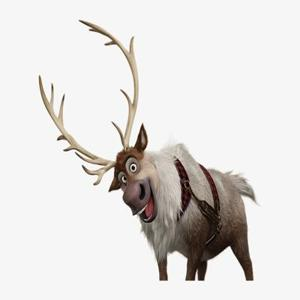sven: (34, 13, 269, 277)
